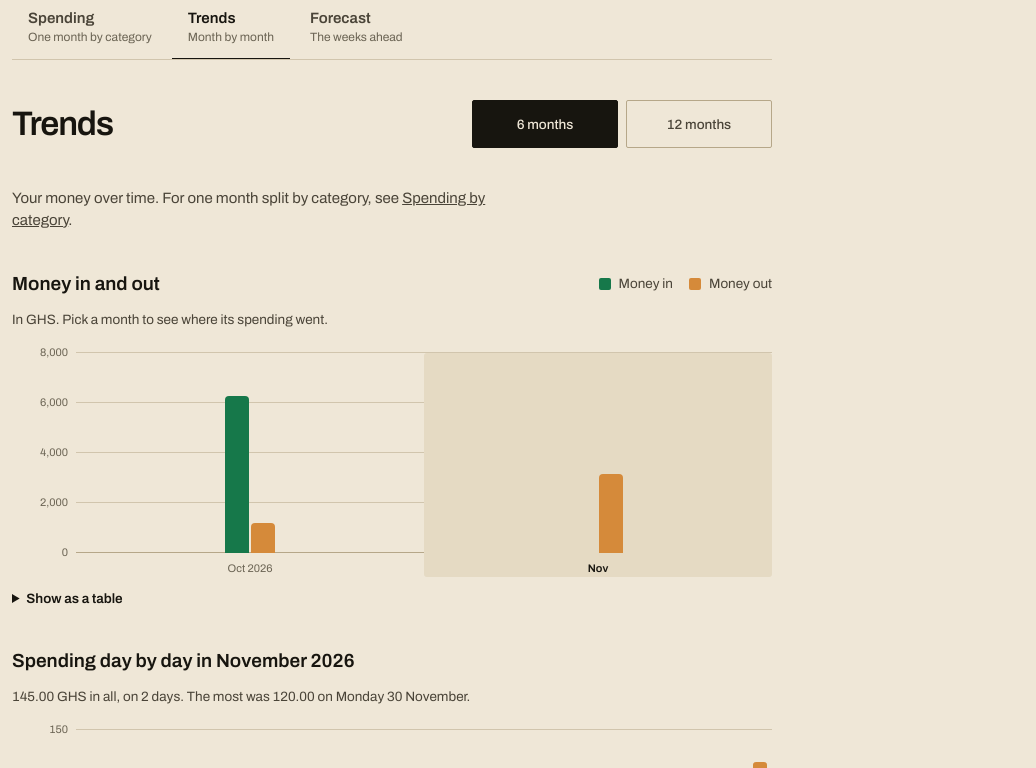
it: ChartsScreen › asks for twelve months when you pick twelve
Expected: the element "Money in and out" is shown, 12,271 -> 772,608
Click the radio button labelled "12 months".
click(699, 124)  # box 626,100 -> 772,148
(page scrolled)
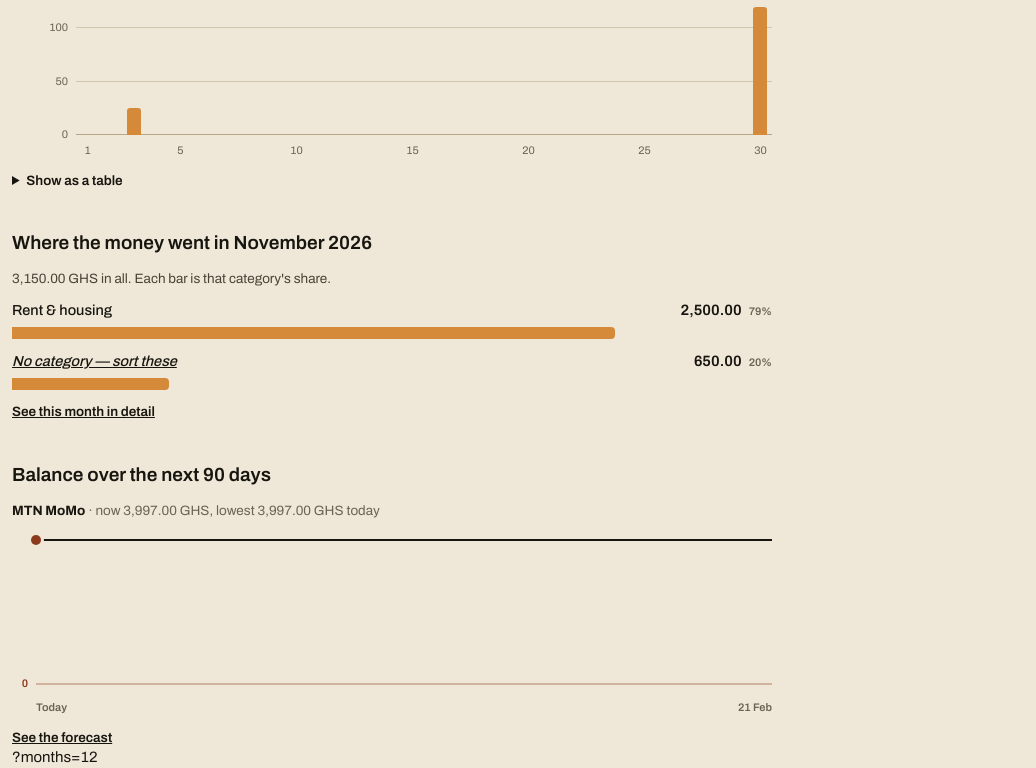
Expected: the text with test id "where" reads "?months=12", 12,749 -> 98,765
